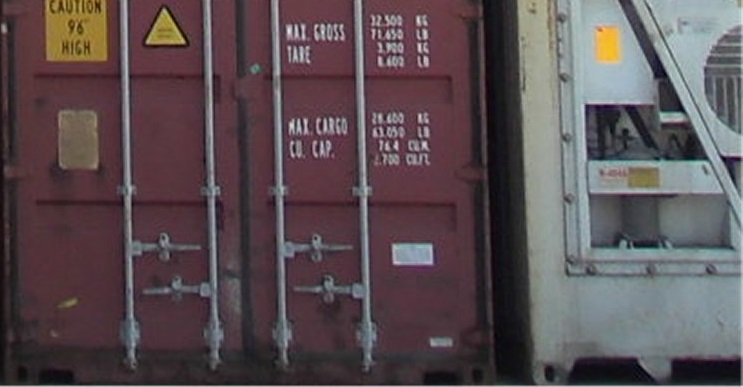container_door: (12, 3, 505, 384)
